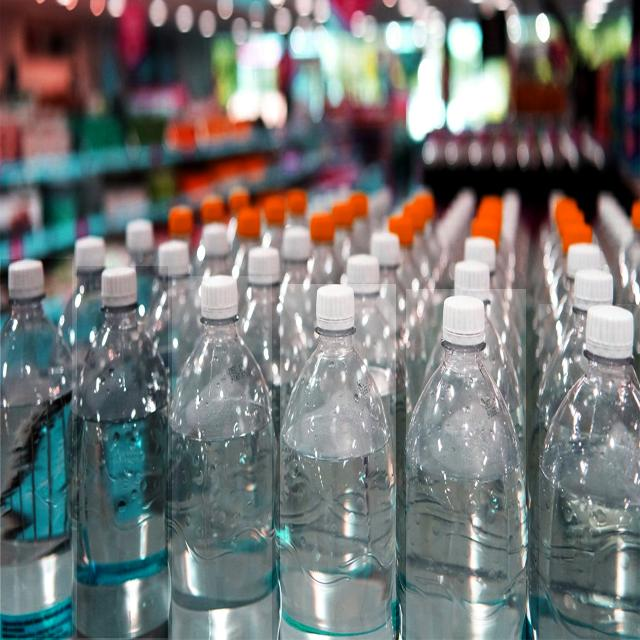full-bottle: (406, 289, 526, 640), (280, 284, 396, 640), (172, 276, 272, 640), (539, 304, 640, 640), (77, 266, 168, 638), (1, 259, 72, 638)
